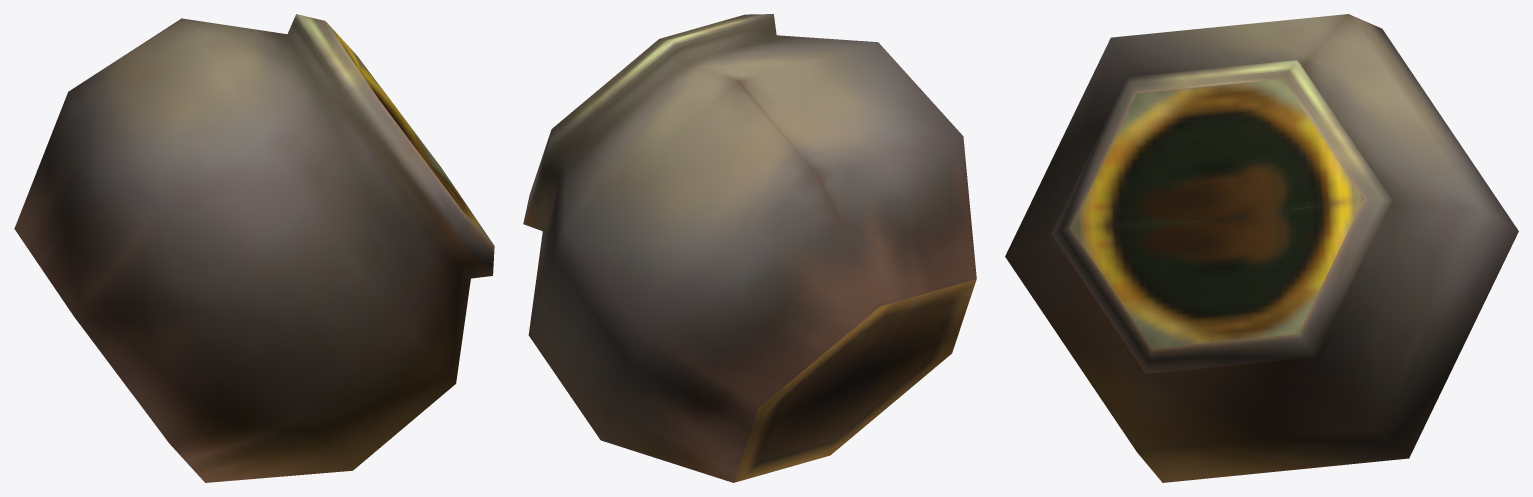
The model's file is FB5_jiuping_1.FBX.
The picture shows the model from 3 angles, left to right: view 1: azimuth 30°, elevation 25°; view 2: azimuth 150°, elevation 25°; view 3: azimuth 270°, elevation 25°; orthographic projection. The views are drawn at different scales.
Parts seen in each view (by area): view 1: FB5_jiuping_1; view 2: FB5_jiuping_1; view 3: FB5_jiuping_1.
Part boxes in pixels (x1=…): FB5_jiuping_1: x1=14, y1=14, x2=494, y2=482; FB5_jiuping_1: x1=523, y1=14, x2=976, y2=482; FB5_jiuping_1: x1=1005, y1=14, x2=1518, y2=482.
Bounding box in the file's own units: 81.66 × 78.56 × 84.47.
1 material, 1 textured.
